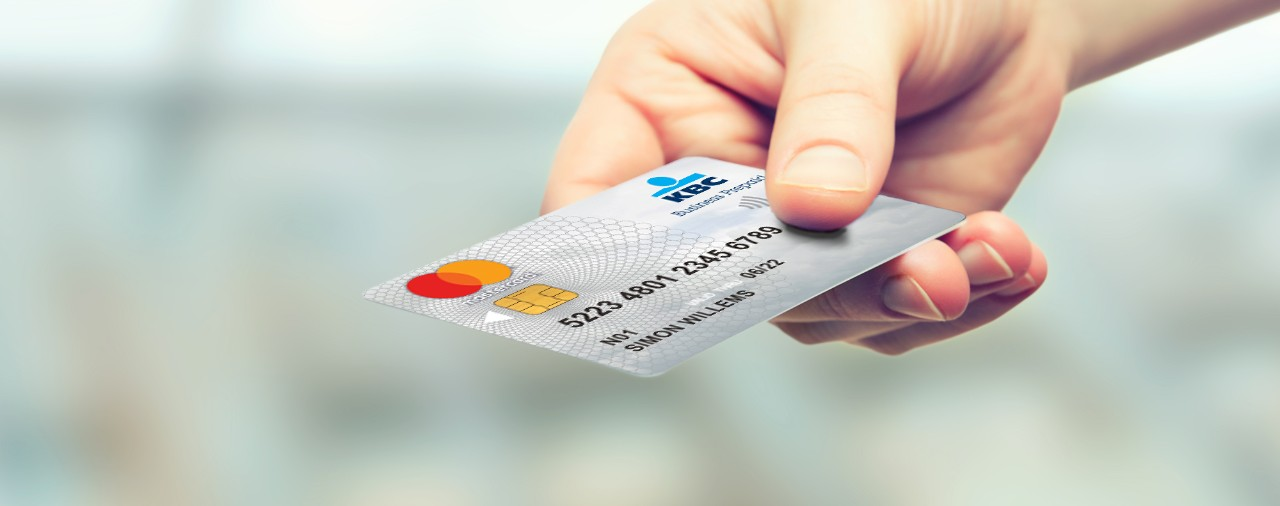tarjeta: (362, 153, 970, 383)
